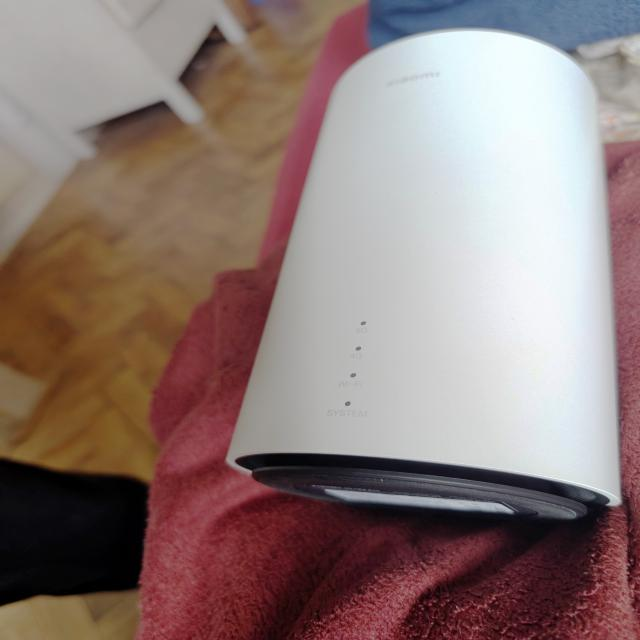off: (348, 340, 371, 358), (344, 366, 364, 386), (338, 395, 360, 412), (353, 315, 375, 331)
pow: (223, 24, 627, 525)
